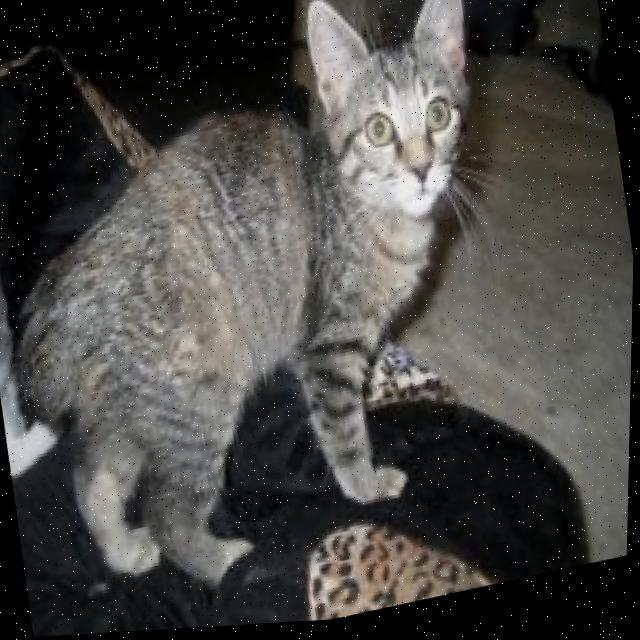American Bobtail: (0, 0, 551, 632)
